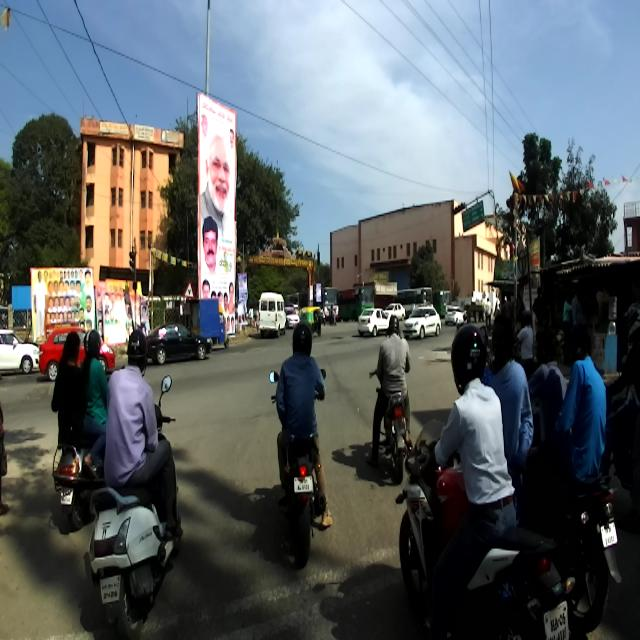motorcycle ahead at: (84, 484, 177, 624), (274, 444, 340, 562), (366, 400, 419, 473)
